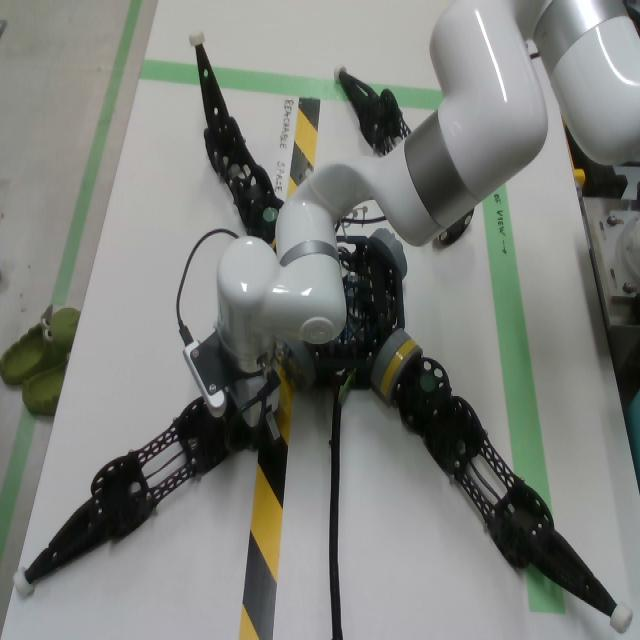body: (307, 236, 404, 391)
body_connector: (370, 328, 410, 389), (274, 337, 317, 393), (369, 228, 408, 279)
gripper: (226, 371, 281, 465)
leg: (380, 338, 634, 635), (12, 397, 258, 600), (188, 28, 284, 253), (333, 61, 411, 157)
leg_connector: (380, 340, 424, 400), (438, 208, 475, 245)
leg_marker: (263, 207, 278, 221), (421, 375, 433, 391)
